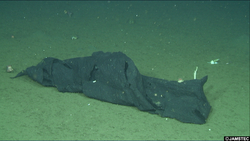plastic bag: (10, 48, 214, 128)
